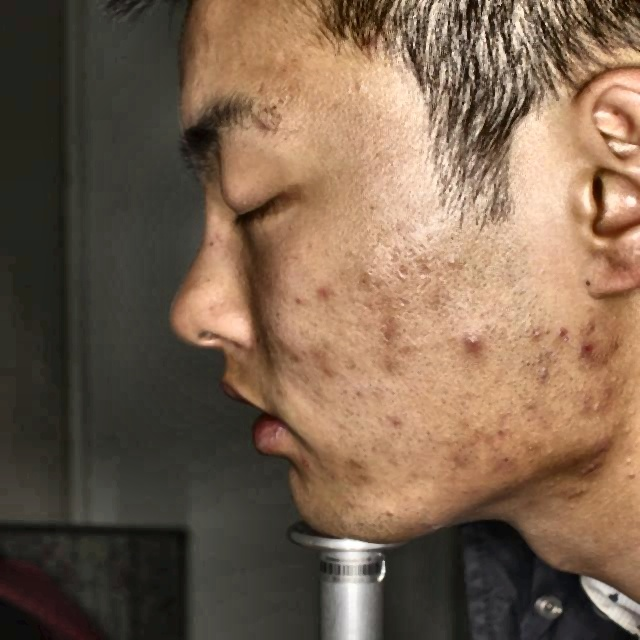pustule: (309, 279, 347, 306), (492, 451, 532, 475), (450, 330, 484, 354), (542, 320, 572, 345), (281, 344, 309, 370), (314, 356, 344, 380), (572, 336, 602, 358)
